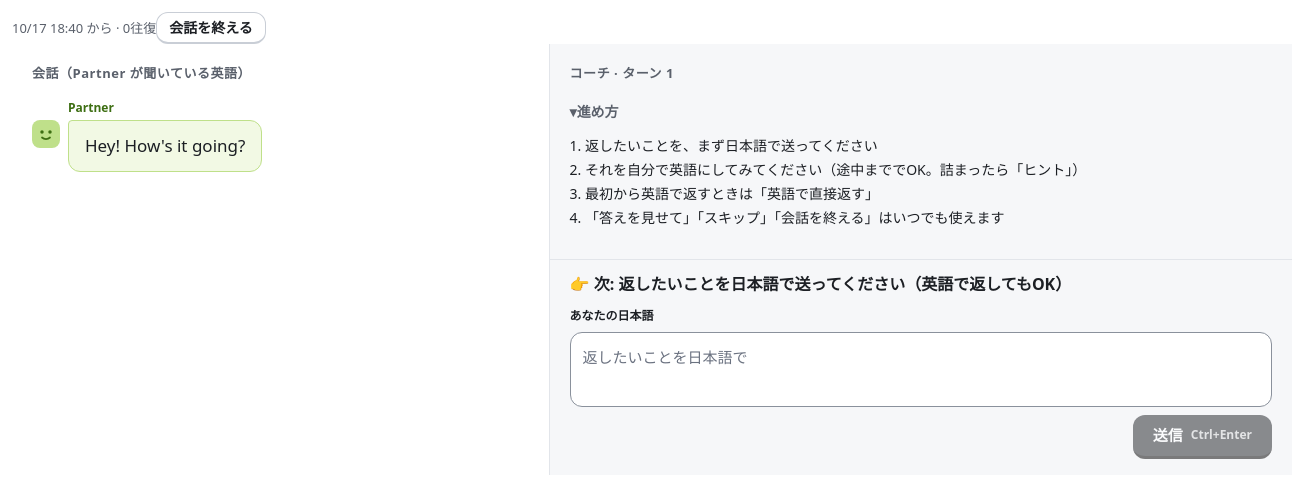
Test: Composer on the conversation screen (REQ-005) › shows the domain invalid_input 422 under the field
This screenshot has width=1292, height=492.
Type "久しぶりに映画を見た" into the text box labelled "あなたの日本語" at (921, 369), box [570,332,1272,406]
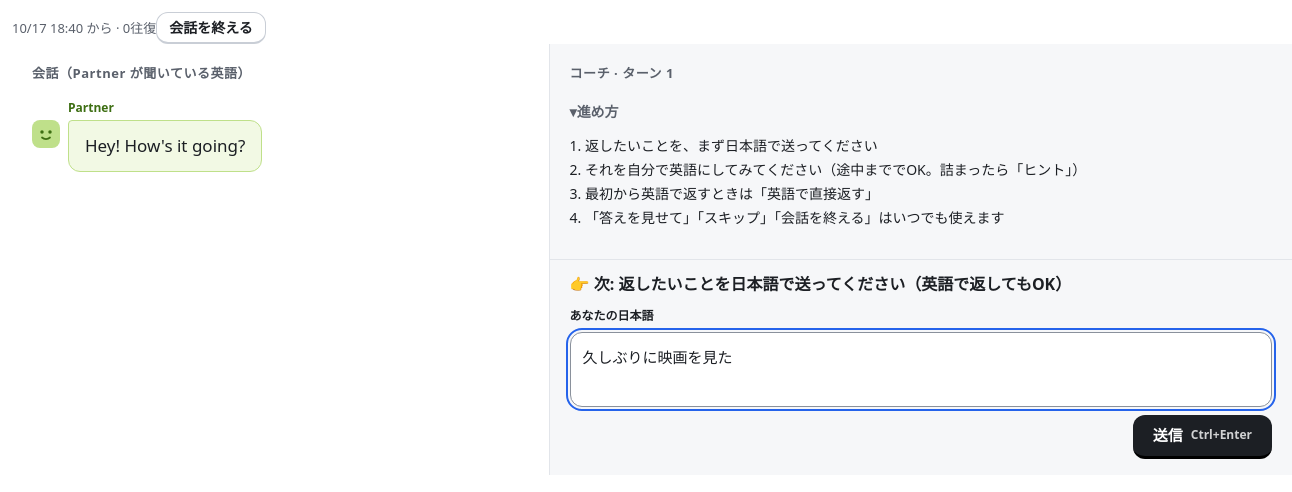
Type keys "{Meta>}{Enter}{/Meta}"
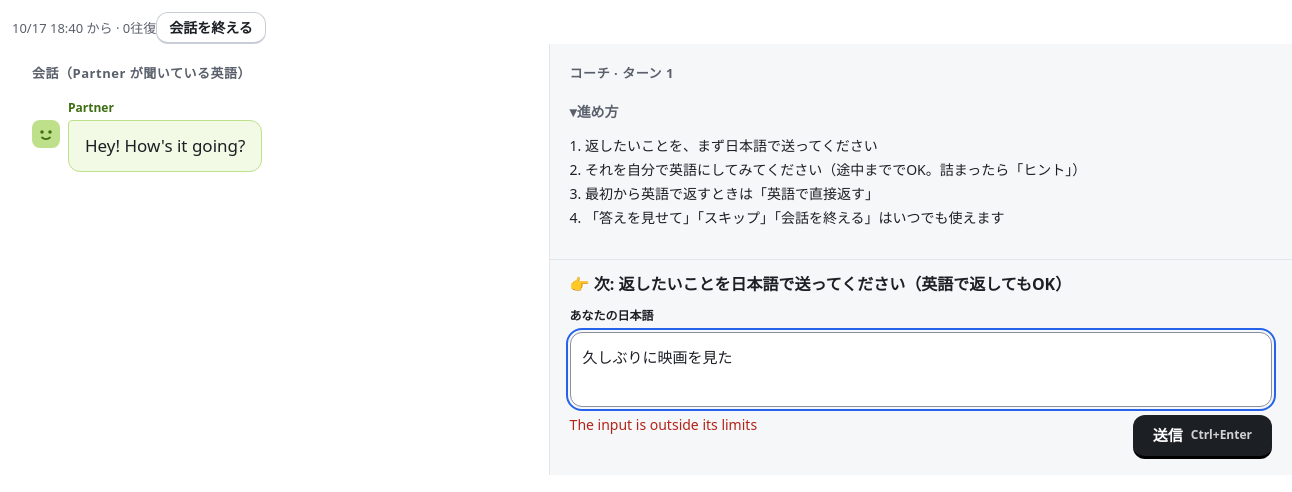
Expected: the message "The input is outside its limits" is shown, [570,414,757,434]
